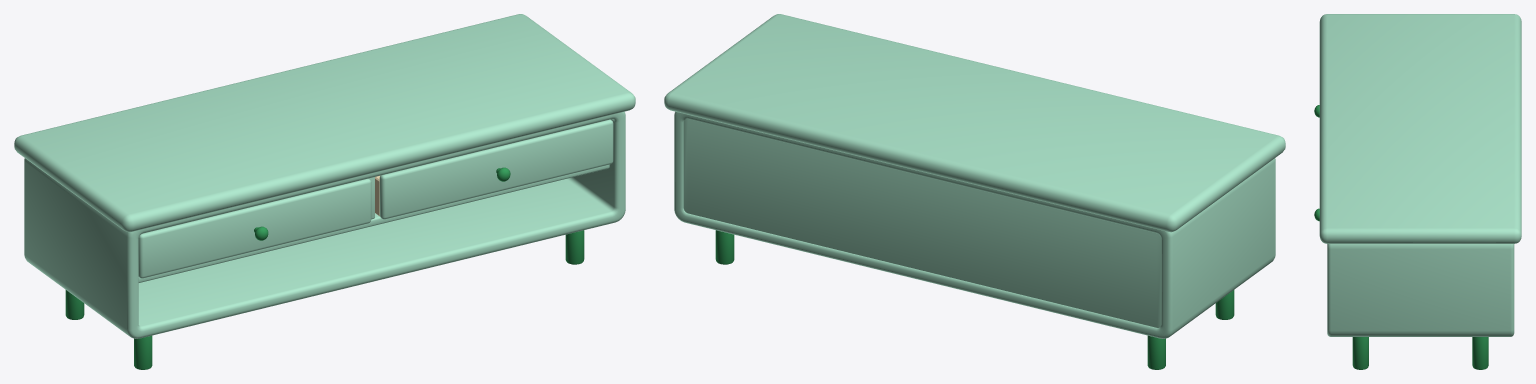
Rendered from rack_baixo_gavetas_menta.glb.
3 views of the same model, side by side, from view 1: azimuth 30°, elevation 25°; view 2: azimuth 150°, elevation 25°; view 3: azimuth 270°, elevation 25° (orthographic). The views are drawn at different scales.
Visible parts, largest first — view 1: rack_baixo_gavetas_menta, gaveta_2, gaveta_1; view 2: rack_baixo_gavetas_menta; view 3: rack_baixo_gavetas_menta.
Part boxes in pixels (bbox=[...]): rack_baixo_gavetas_menta: bbox=[14, 14, 635, 369]; gaveta_2: bbox=[375, 119, 613, 219]; gaveta_1: bbox=[138, 178, 371, 278]; rack_baixo_gavetas_menta: bbox=[664, 14, 1285, 369]; rack_baixo_gavetas_menta: bbox=[1319, 14, 1521, 369].
Bounding box in the file's own units: 1.39 × 0.453 × 0.5546.
Materials: 1 (1 with a texture image).
